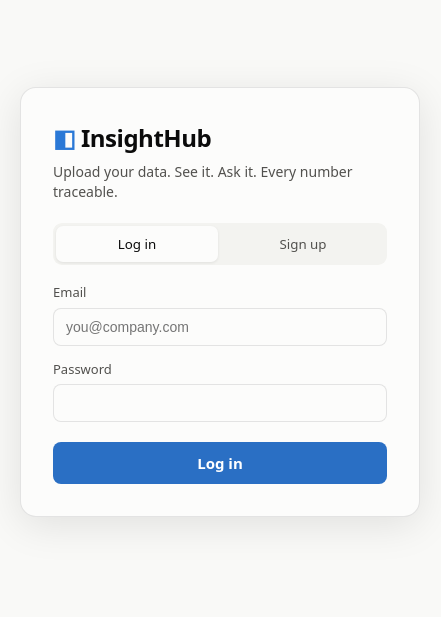
Test case: Login › survives a 422 whose detail is an array of objects
The image size is (441, 617).
Click the button "Sign up": (303, 244) [222,226,384,262]
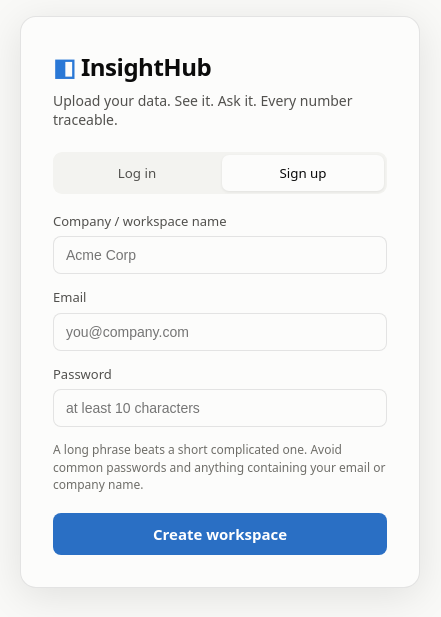
In the field labelled "Email": (220, 332) [53,313,387,351], type "nope@insighthub.test"
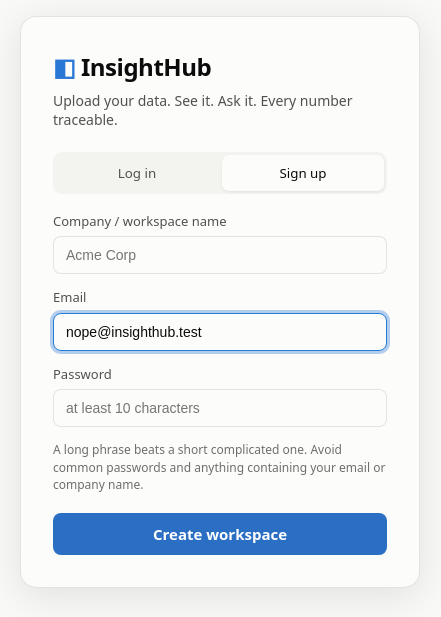
In the password field labelled "Password": (220, 408) [53,389,387,427], type "correct-horse-battery"
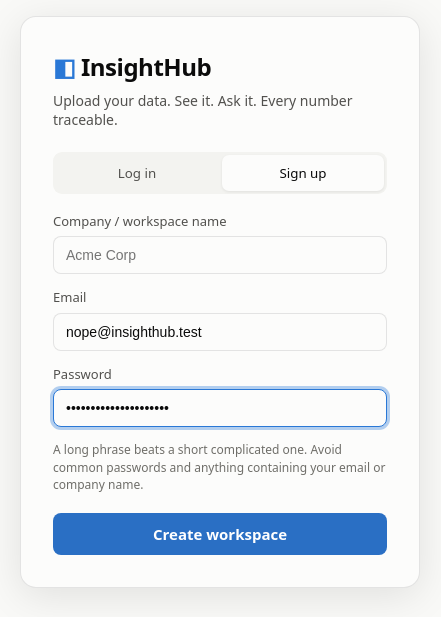
Click the button "Create workspace": (220, 534) [53,513,387,555]
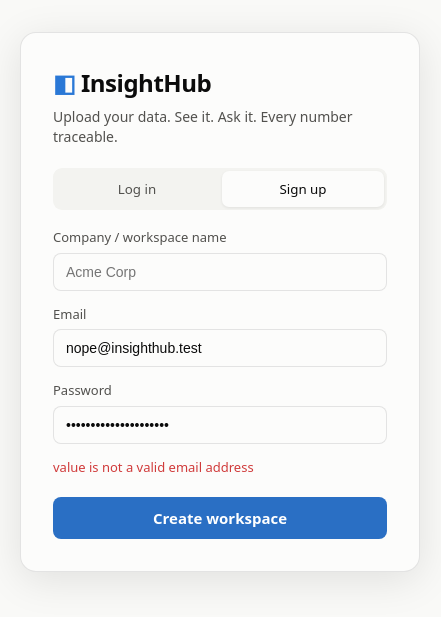
Now the button "Create workspace" is shown, box [53,497,387,539]
Now the text "value is not a valid email address" is shown, box [53,458,254,476]
